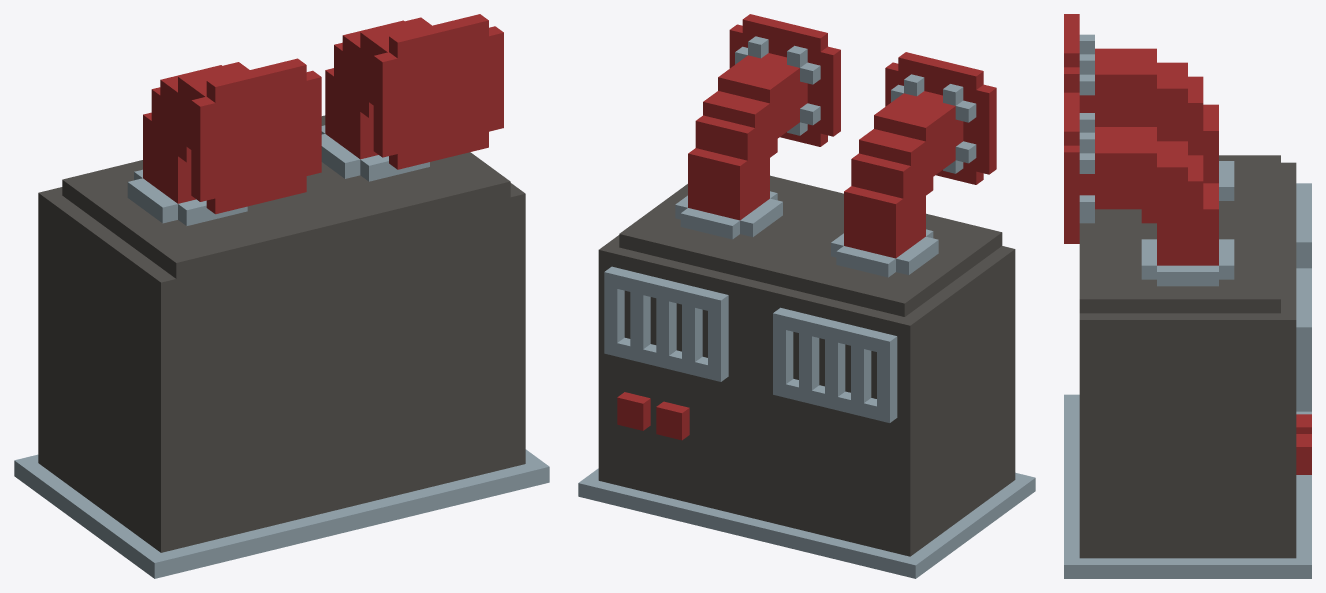
File: Generator.obj
The picture shows the model from 3 angles, left to right: view 1: azimuth 30°, elevation 25°; view 2: azimuth 150°, elevation 25°; view 3: azimuth 270°, elevation 25°; orthographic projection. The views are drawn at different scales.
Bounding box in the file's own units: 26 × 30 × 16.
Materials: 1 (1 with a texture image).
